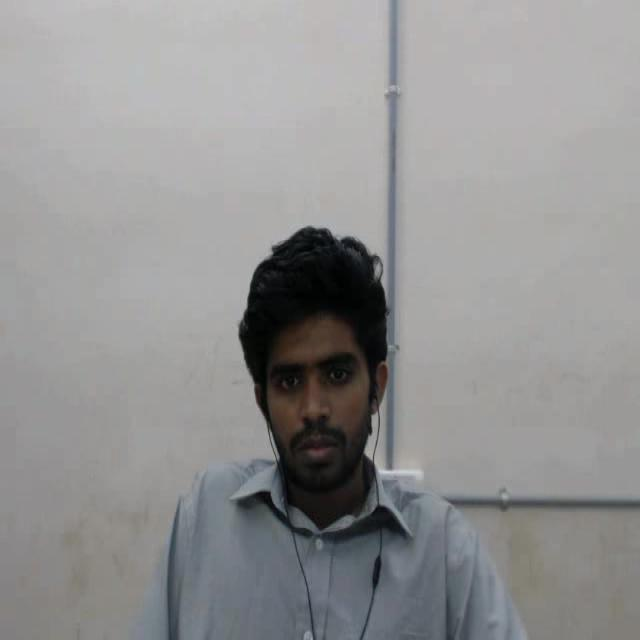Engaged: (218, 195, 410, 518)
